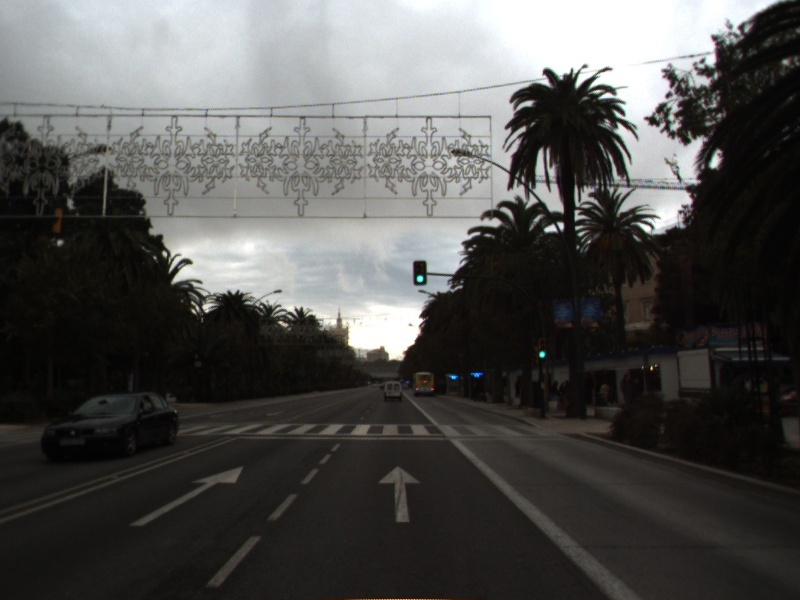STRAIGHT: (127, 464, 246, 528), (376, 464, 423, 524)
